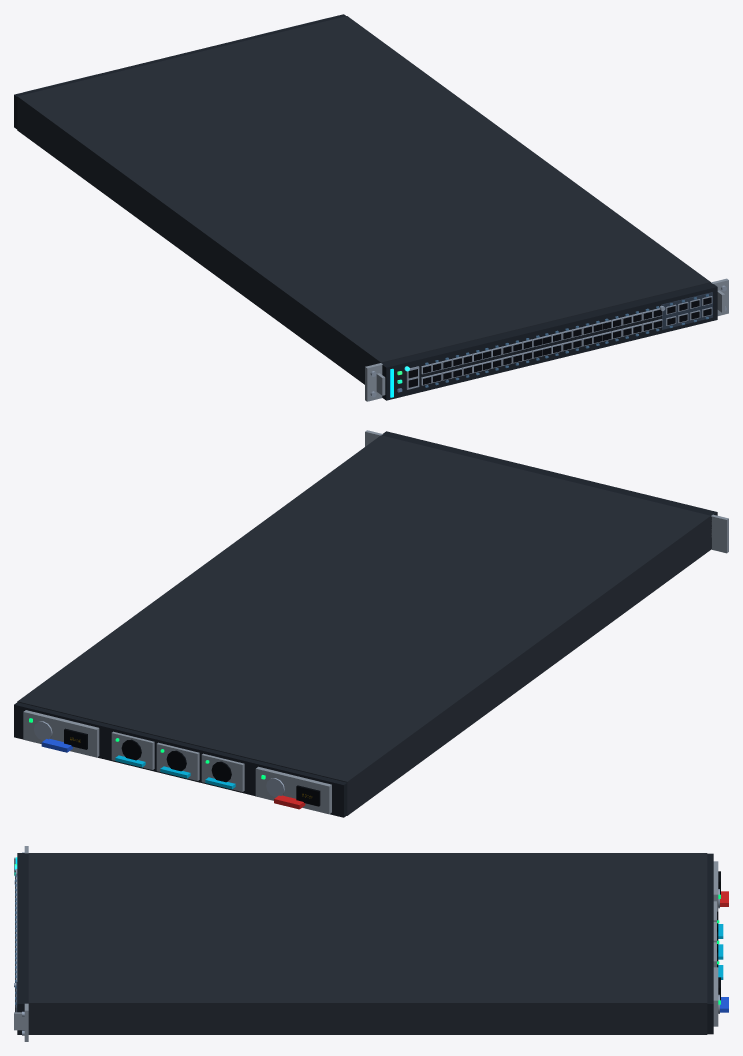
Rendered from cisco_catalyst_9300_48p.glb.
3 views of the same model, one above another, from view 1: azimuth 30°, elevation 25°; view 2: azimuth 150°, elevation 25°; view 3: azimuth 270°, elevation 25° (orthographic). The views are drawn at different scales.
Visible parts, largest first — view 1: BATCH_MAT_CHASSIS_BODY, BATCH_MAT_FACEPLATE, BATCH_MAT_CAVITY_DARK, BATCH_MAT_PORT_SHIELD, BATCH_MAT_RACK_EAR, BATCH_MAT_NM_MODULE_BAY; view 2: BATCH_MAT_CHASSIS_BODY, BATCH_MAT_RACK_EAR, BATCH_MAT_FACEPLATE, BATCH_MAT_CAVITY_DARK; view 3: BATCH_MAT_CHASSIS_BODY, BATCH_MAT_FACEPLATE, BATCH_MAT_RACK_EAR, BATCH_MAT_PORT_SHIELD.
Part boxes in pixels (x1,y1,x2,y2): BATCH_MAT_CHASSIS_BODY: (17, 16, 710, 384); BATCH_MAT_FACEPLATE: (14, 14, 717, 400); BATCH_MAT_CAVITY_DARK: (408, 297, 711, 387); BATCH_MAT_PORT_SHIELD: (370, 285, 726, 397); BATCH_MAT_RACK_EAR: (25, 17, 728, 401); BATCH_MAT_NM_MODULE_BAY: (661, 292, 712, 329); BATCH_MAT_CHASSIS_BODY: (17, 435, 710, 815); BATCH_MAT_RACK_EAR: (23, 430, 728, 814); BATCH_MAT_FACEPLATE: (14, 431, 717, 817); BATCH_MAT_CAVITY_DARK: (64, 728, 320, 806); BATCH_MAT_CHASSIS_BODY: (28, 853, 707, 1034); BATCH_MAT_FACEPLATE: (17, 853, 713, 1034); BATCH_MAT_RACK_EAR: (14, 846, 718, 1041); BATCH_MAT_PORT_SHIELD: (14, 852, 719, 1035).
Bounding box in the file's own units: 0.4826 × 0.0435 × 0.8851.
